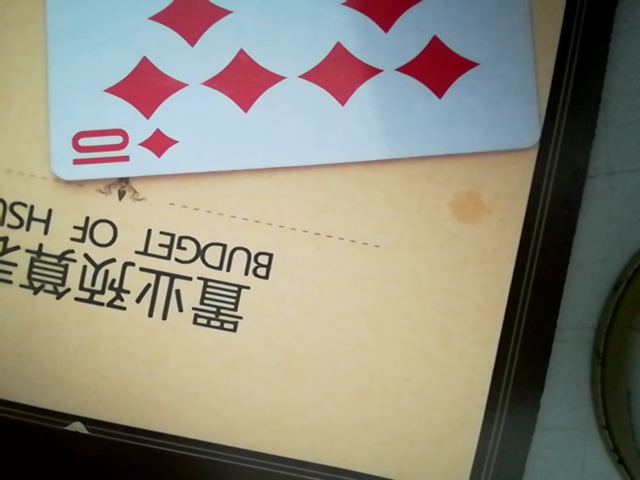fk 10: (38, 0, 551, 181)
